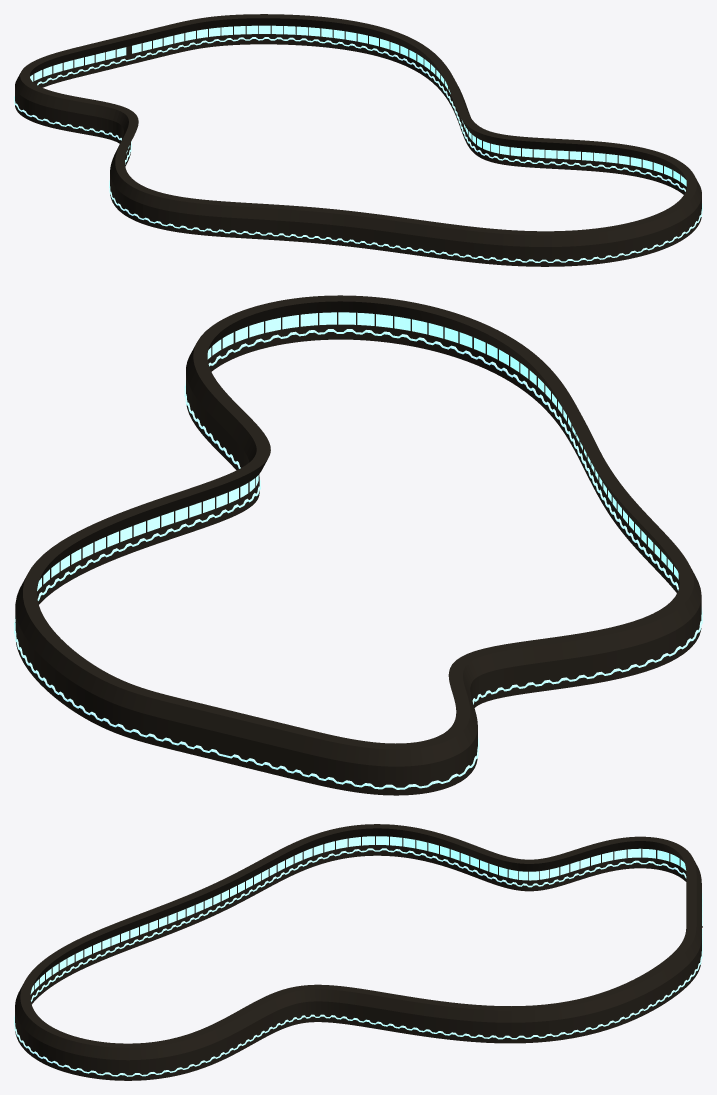
File: Sci-Update_Blocks.fbx
3 renders of one model, top to bottom at view 1: azimuth 30°, elevation 25°; view 2: azimuth 150°, elevation 25°; view 3: azimuth 270°, elevation 25°, orthographic. The views are drawn at different scales.
Parts seen in each view (by area): view 1: middle_floor_wall_01; view 2: middle_floor_wall_01; view 3: middle_floor_wall_01.
Boxes of the visible parts, <box> form: middle_floor_wall_01: <box>14,14,702,266</box>; middle_floor_wall_01: <box>14,295,702,795</box>; middle_floor_wall_01: <box>14,824,702,1080</box>.
Bounding box in the file's own units: 7316 × 458 × 9297.
